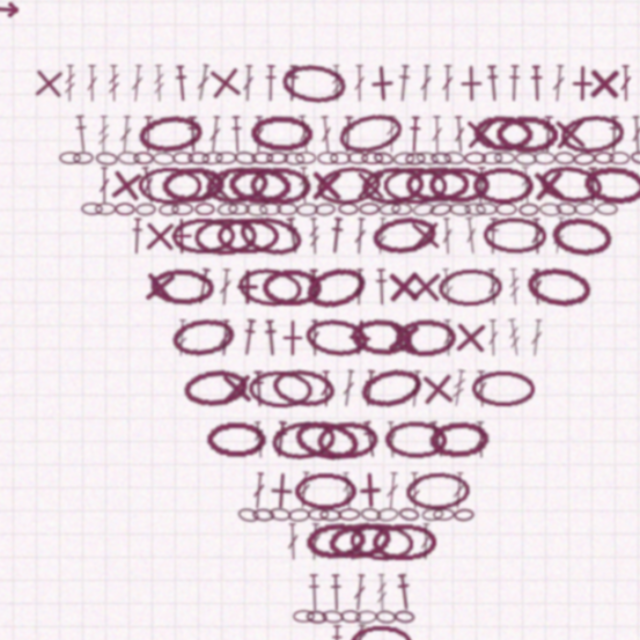chain: (270, 285, 329, 329), (299, 153, 359, 196), (318, 373, 377, 416), (261, 418, 321, 460), (213, 242, 272, 284), (242, 375, 301, 414), (462, 287, 521, 326), (156, 331, 214, 370), (329, 243, 387, 282), (473, 199, 531, 238), (242, 420, 301, 458), (213, 288, 272, 326), (251, 112, 310, 150), (291, 507, 348, 546), (271, 332, 329, 370), (185, 200, 243, 238), (281, 200, 339, 238), (127, 156, 185, 194), (166, 376, 224, 413), (492, 156, 550, 193), (484, 244, 540, 282), (310, 509, 368, 545), (512, 200, 568, 237), (320, 201, 376, 237), (311, 333, 367, 368), (205, 201, 261, 236), (223, 378, 280, 412), (387, 290, 444, 324), (272, 509, 327, 544), (359, 466, 415, 500), (138, 290, 194, 324), (417, 157, 471, 192), (282, 422, 337, 456), (176, 246, 231, 280), (148, 202, 203, 236), (224, 202, 279, 236), (379, 422, 433, 456), (426, 246, 481, 279), (359, 202, 414, 235), (330, 511, 386, 543), (157, 247, 213, 279), (340, 203, 396, 235), (341, 422, 395, 455), (350, 334, 404, 367), (225, 158, 279, 191), (437, 158, 491, 191), (311, 599, 366, 631), (263, 467, 318, 499), (416, 379, 471, 411), (196, 247, 251, 279), (128, 203, 183, 235), (379, 203, 433, 235), (417, 203, 471, 235), (187, 423, 240, 455), (235, 291, 288, 323), (365, 233, 385, 247), (380, 233, 400, 247), (368, 189, 388, 203), (214, 497, 233, 511), (331, 189, 350, 203), (241, 497, 261, 510), (334, 497, 354, 510), (373, 497, 393, 510), (336, 233, 356, 246), (110, 189, 130, 202), (211, 189, 231, 202), (320, 497, 339, 510), (353, 497, 372, 510), (196, 233, 215, 246), (489, 233, 508, 246), (183, 189, 202, 202), (392, 189, 411, 202), (553, 189, 572, 202), (91, 190, 111, 202), (504, 190, 524, 202), (273, 586, 292, 598), (287, 586, 306, 598), (316, 586, 335, 598), (333, 586, 352, 598), (349, 586, 368, 598), (227, 498, 246, 510), (258, 498, 277, 510), (285, 498, 304, 510), (221, 234, 240, 246), (265, 234, 284, 246), (397, 234, 416, 246), (410, 234, 429, 246), (475, 234, 494, 246), (141, 190, 160, 202), (454, 190, 473, 202), (401, 498, 419, 510), (126, 234, 144, 246), (146, 234, 164, 246), (281, 234, 299, 246), (457, 234, 475, 246), (254, 190, 272, 202), (349, 190, 367, 202), (359, 190, 377, 202), (381, 190, 399, 202), (262, 586, 281, 597), (301, 498, 320, 509), (383, 498, 402, 509), (79, 234, 98, 245), (157, 234, 176, 245), (206, 234, 225, 245), (233, 234, 252, 245), (420, 234, 439, 245), (437, 234, 456, 245), (505, 234, 524, 245), (524, 234, 543, 245), (60, 190, 79, 201), (171, 190, 190, 201), (195, 190, 214, 201), (226, 190, 245, 201), (239, 190, 258, 201), (321, 190, 340, 201), (410, 190, 429, 201), (470, 190, 489, 201), (303, 586, 321, 597), (275, 498, 293, 509), (91, 234, 109, 245), (108, 234, 126, 245), (177, 234, 195, 245), (248, 234, 266, 245), (301, 234, 319, 245), (319, 234, 337, 245), (347, 234, 365, 245), (72, 190, 90, 201), (124, 190, 142, 201), (158, 190, 176, 201), (264, 190, 282, 201), (283, 190, 301, 201), (294, 190, 312, 201), (309, 190, 327, 201), (425, 190, 443, 201), (436, 190, 454, 201), (488, 190, 506, 201), (522, 190, 540, 201), (535, 190, 553, 201), (313, 630, 332, 640), (331, 630, 350, 640), (282, 630, 300, 640), (299, 630, 317, 640)
double: (378, 422, 396, 455), (129, 202, 145, 235), (177, 114, 192, 147), (265, 466, 279, 499), (303, 378, 317, 411), (409, 246, 423, 279), (265, 158, 279, 191), (341, 467, 355, 499), (361, 379, 375, 411), (284, 159, 298, 191), (313, 555, 326, 587), (226, 467, 239, 499), (399, 467, 412, 499), (197, 335, 210, 367), (466, 335, 479, 367), (197, 291, 210, 323), (111, 159, 124, 191), (188, 159, 201, 191), (121, 115, 134, 147), (485, 115, 498, 147), (256, 511, 268, 543), (275, 511, 287, 543), (419, 379, 431, 411), (429, 291, 441, 323), (467, 291, 479, 323), (314, 247, 326, 279), (467, 247, 479, 279), (400, 159, 412, 191), (371, 115, 383, 147), (563, 115, 575, 147), (342, 423, 353, 455), (419, 423, 430, 455), (285, 379, 296, 411), (314, 291, 325, 323), (390, 247, 401, 279), (227, 159, 238, 191), (381, 159, 392, 191), (554, 159, 565, 191), (83, 115, 94, 147), (218, 115, 229, 147), (314, 115, 325, 147), (390, 115, 401, 147), (544, 115, 555, 147), (372, 511, 382, 543), (276, 335, 286, 367), (391, 335, 401, 367), (430, 335, 440, 367), (94, 203, 104, 235)
half_double: (320, 422, 337, 455), (176, 290, 193, 323), (350, 554, 366, 587), (216, 334, 232, 367), (254, 246, 270, 279), (244, 422, 259, 455), (321, 378, 336, 411), (292, 246, 307, 279), (72, 158, 87, 191), (580, 114, 595, 147), (236, 335, 250, 367), (159, 115, 173, 147), (255, 115, 269, 147), (351, 115, 365, 147), (428, 115, 442, 147), (274, 555, 287, 587), (293, 555, 306, 587), (226, 379, 239, 411), (274, 291, 287, 323), (332, 291, 345, 323), (121, 247, 134, 279), (418, 203, 431, 235), (169, 159, 182, 191), (207, 159, 220, 191), (303, 159, 316, 191), (361, 159, 374, 191), (476, 159, 489, 191), (533, 159, 546, 191), (447, 115, 460, 147), (466, 115, 479, 147), (294, 599, 306, 631), (429, 247, 441, 279), (515, 203, 527, 235), (131, 159, 143, 191), (237, 115, 249, 147)
noise: (0, 59, 27, 74), (615, 209, 640, 220)
single: (100, 201, 136, 237), (302, 333, 337, 368), (340, 333, 375, 368), (186, 113, 221, 148), (235, 466, 269, 500), (370, 378, 404, 412), (130, 290, 164, 324), (466, 202, 500, 236), (34, 114, 68, 148), (322, 114, 356, 148), (312, 466, 345, 499), (197, 378, 230, 411), (399, 334, 432, 367), (341, 290, 374, 323), (360, 290, 393, 323), (360, 246, 393, 279), (408, 158, 441, 191), (485, 158, 518, 191), (246, 335, 278, 367), (207, 291, 239, 323), (131, 247, 163, 279), (150, 247, 182, 279), (179, 203, 211, 235), (275, 203, 307, 235), (313, 203, 345, 235), (400, 115, 432, 147), (496, 115, 528, 147), (515, 115, 547, 147)
treble: (398, 378, 413, 411), (446, 334, 461, 367), (313, 598, 327, 631), (485, 246, 499, 279), (303, 467, 316, 499), (389, 291, 402, 323), (447, 291, 460, 323), (332, 247, 345, 279), (227, 423, 239, 455), (160, 335, 172, 367), (266, 203, 278, 235), (458, 203, 470, 235), (362, 467, 373, 499), (275, 247, 286, 279), (93, 159, 104, 191), (342, 159, 353, 191), (64, 115, 75, 147), (102, 115, 113, 147), (141, 115, 152, 147), (334, 555, 344, 587), (295, 115, 305, 147)
